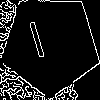I: (25, 20, 51, 68)
